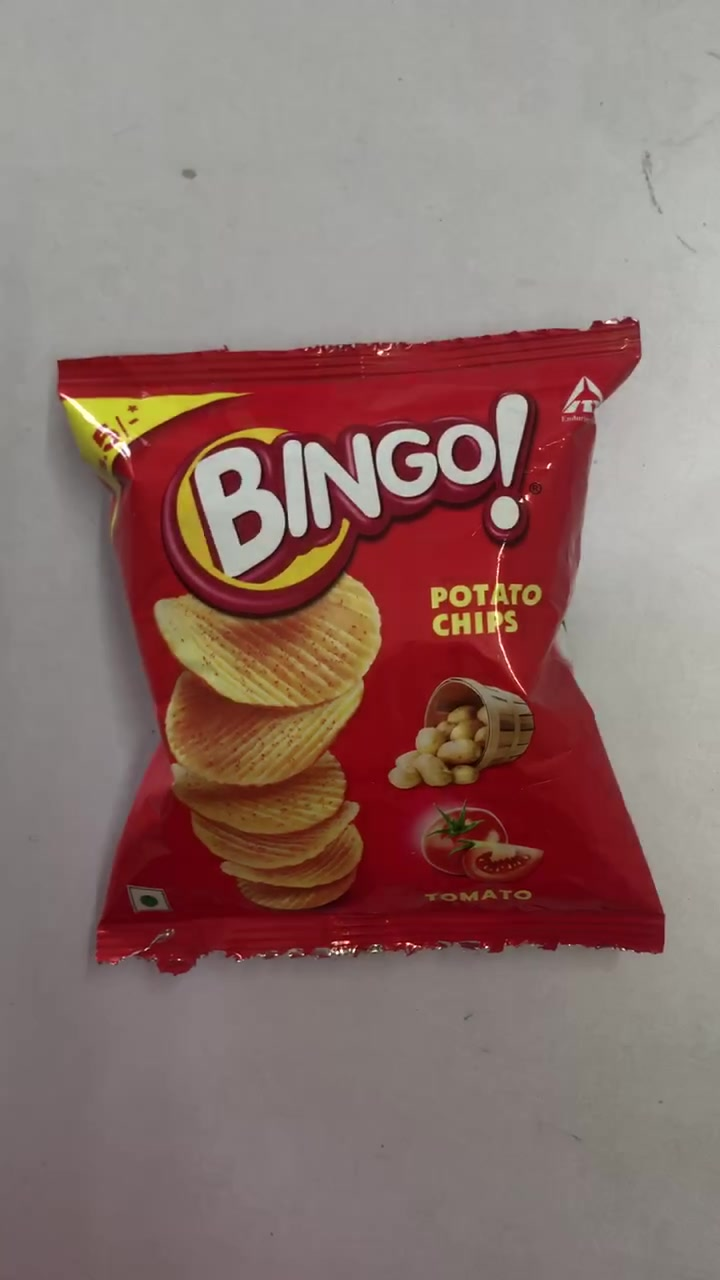Bingo: (73, 360, 653, 946)
